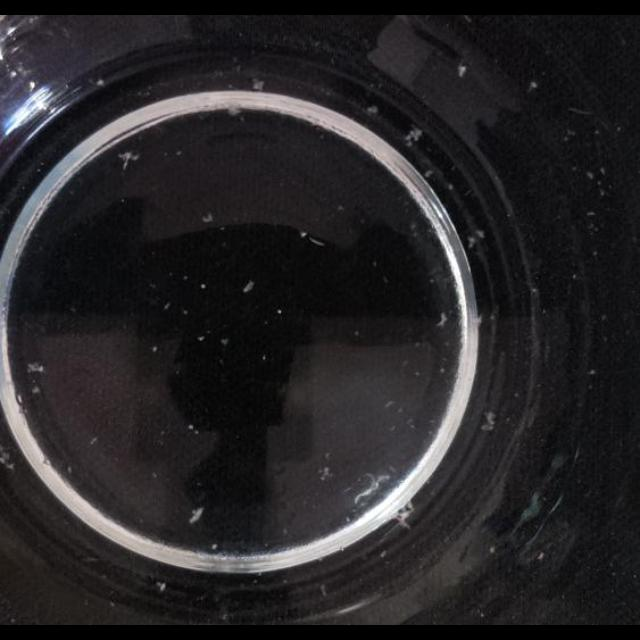Fibre: (118, 150, 140, 170), (404, 126, 422, 144), (481, 412, 497, 432), (466, 232, 484, 248), (26, 362, 44, 374), (436, 312, 448, 328), (252, 78, 264, 92), (457, 64, 467, 78), (529, 80, 539, 92)
microbeads: (316, 465, 332, 481), (201, 212, 213, 224), (473, 229, 485, 241), (366, 104, 378, 116), (384, 400, 396, 410), (157, 582, 166, 594), (220, 336, 230, 346), (31, 384, 41, 394), (423, 169, 433, 179), (42, 458, 52, 468), (586, 171, 596, 179), (586, 210, 596, 218), (90, 436, 98, 446), (336, 204, 346, 212), (600, 167, 608, 176), (96, 77, 104, 86), (162, 302, 170, 310), (588, 368, 596, 376), (210, 542, 218, 550), (300, 230, 308, 238), (324, 452, 331, 461), (188, 423, 195, 431), (414, 370, 421, 378), (379, 550, 386, 558), (439, 366, 446, 374), (152, 346, 158, 354), (196, 336, 204, 342), (182, 308, 188, 316), (592, 250, 598, 258), (67, 466, 73, 474), (354, 329, 360, 336), (175, 150, 182, 156), (200, 284, 206, 290), (276, 309, 282, 315), (572, 274, 578, 280)
